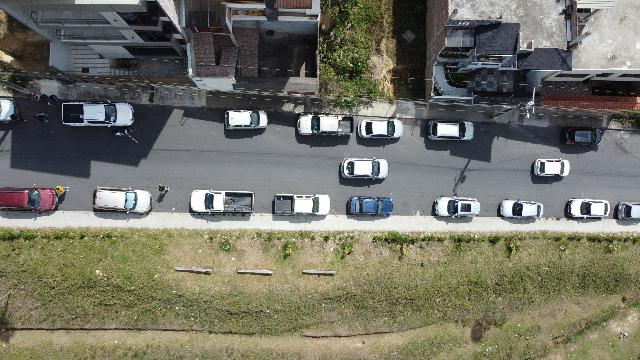Vehiculo: (0, 186, 70, 212), (62, 102, 134, 127), (93, 187, 153, 215), (190, 190, 254, 214), (272, 194, 330, 216), (297, 114, 353, 136), (339, 158, 388, 180), (432, 196, 480, 218), (565, 198, 611, 220), (357, 119, 403, 139), (428, 120, 474, 140), (498, 199, 544, 219), (347, 196, 393, 216), (225, 109, 268, 130), (564, 127, 602, 146), (532, 159, 570, 177), (1, 98, 20, 122), (616, 202, 640, 220)
